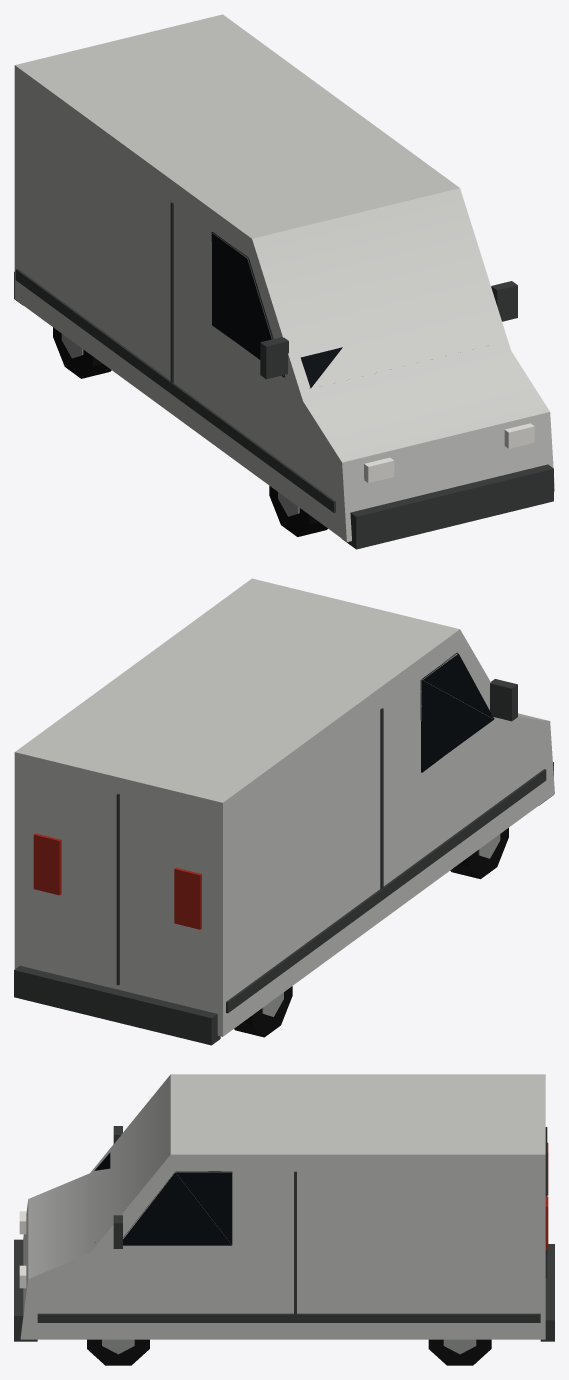
File: vehicle.van.estate_white.glb
3 views of the same model, one above another, from view 1: azimuth 30°, elevation 25°; view 2: azimuth 150°, elevation 25°; view 3: azimuth 270°, elevation 25° (orthographic). The views are drawn at different scales.
Parts seen in each view (by area): view 1: main__paint_ccc, main__paint_333, main__glass_dark, main__rubber, main__paint_eee; view 2: main__paint_ccc, main__paint_333, main__glass_dark, main__paint_a21, main__rubber; view 3: main__paint_ccc, main__paint_333, main__glass_dark, main__rubber, main__steel_999, main__paint_eee.
Part boxes in pixels (x1=…): main__paint_ccc: x1=14, y1=14, x2=554, y2=542; main__paint_333: x1=14, y1=202, x2=553, y2=549; main__glass_dark: x1=211, y1=232, x2=342, y2=388; main__rubber: x1=53, y1=327, x2=327, y2=536; main__paint_eee: x1=364, y1=423, x2=534, y2=482; main__paint_ccc: x1=14, y1=578, x2=554, y2=1036; main__paint_333: x1=14, y1=679, x2=553, y2=1045; main__glass_dark: x1=420, y1=652, x2=494, y2=772; main__paint_a21: x1=33, y1=833, x2=201, y2=929; main__rubber: x1=234, y1=828, x2=508, y2=1037; main__paint_ccc: x1=20, y1=1074, x2=545, y2=1339; main__paint_333: x1=14, y1=1126, x2=554, y2=1341; main__glass_dark: x1=94, y1=1152, x2=232, y2=1245; main__rubber: x1=87, y1=1339, x2=491, y2=1365; main__steel_999: x1=102, y1=1339, x2=476, y2=1354; main__paint_eee: x1=19, y1=1211, x2=26, y2=1288.
Bounding box in the file's own units: 2.42 × 2.47 × 5.7.
